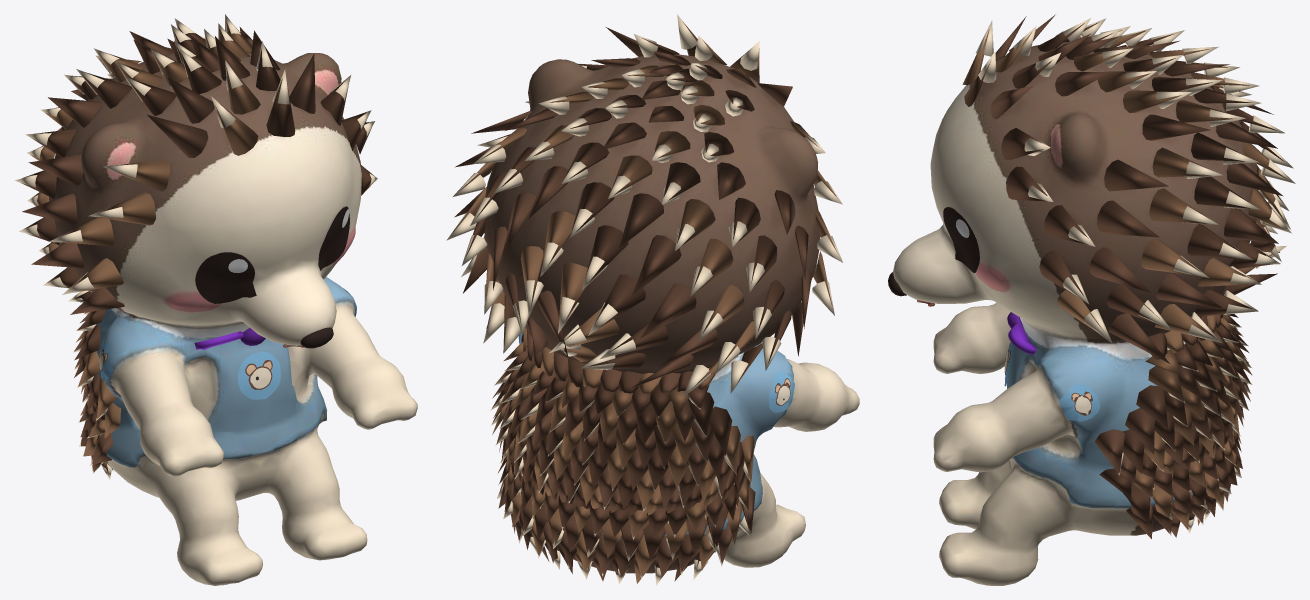
Rendered from hedgehog.glb.
3 renders of one model, left to right at view 1: azimuth 30°, elevation 25°; view 2: azimuth 150°, elevation 25°; view 3: azimuth 270°, elevation 25°, orthographic. The views are drawn at different scales.
Parts seen in each view (by area): view 1: chibi, face; view 2: face, chibi; view 3: chibi, face.
Part boxes in pixels (x1,y1,x2,y2): chibi: (49, 52, 417, 585); face: (15, 14, 377, 479); face: (446, 14, 842, 585); chibi: (484, 54, 859, 573); chibi: (893, 31, 1258, 585); face: (888, 14, 1295, 538).
Size of the model in its own units: 0.8299 by 1.18 by 0.8424.
Materials: 33 (1 with a texture image).
